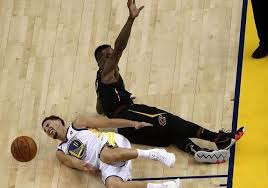fall: (36, 104, 182, 187)
